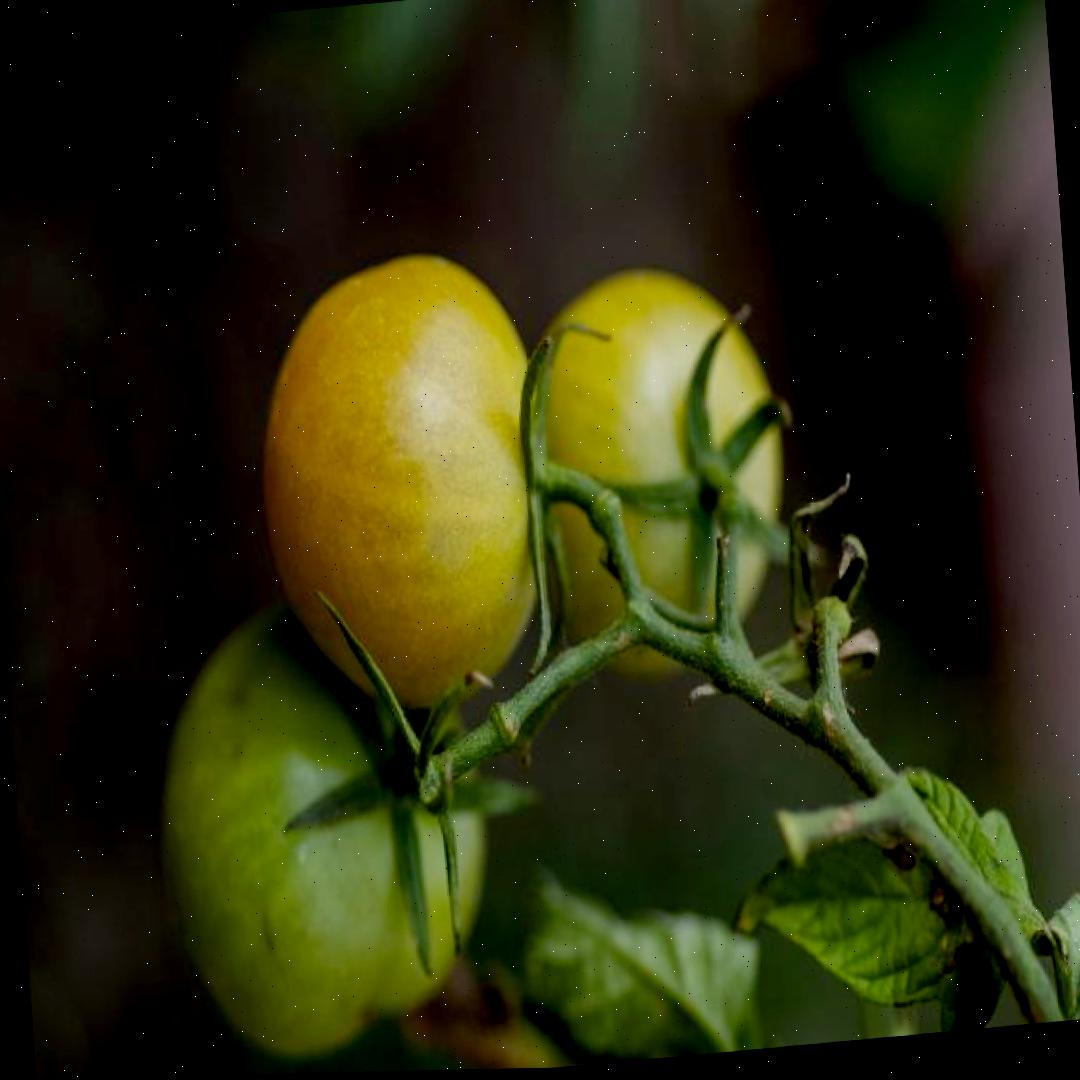mentah: (138, 576, 506, 1072)
setengah_matang: (242, 236, 565, 729), (503, 249, 802, 694)
